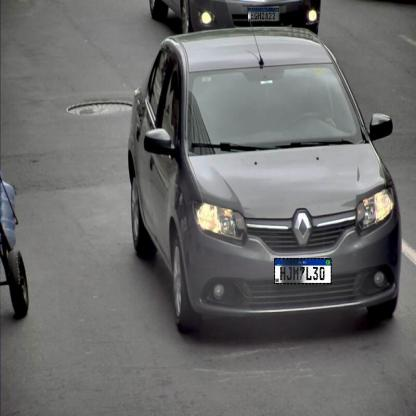PlacaM: (274, 258, 332, 284), (248, 8, 279, 22)
